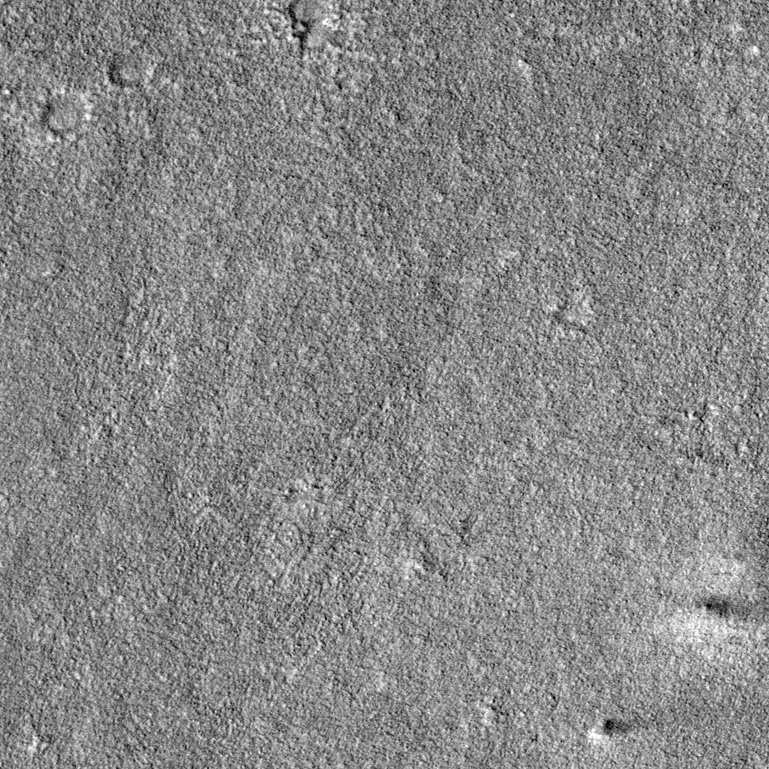dust_devil: (668, 593, 767, 643), (584, 715, 636, 743)
